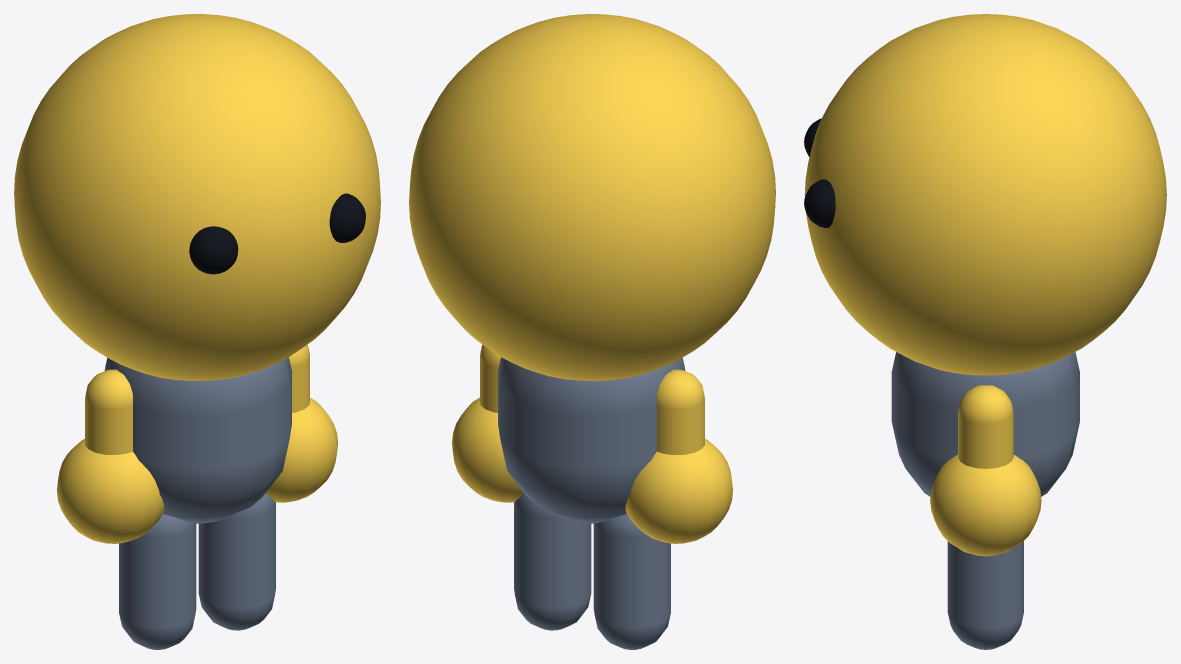
File: player-model-reference.glb
The picture shows the model from 3 angles, left to right: view 1: azimuth 30°, elevation 25°; view 2: azimuth 150°, elevation 25°; view 3: azimuth 270°, elevation 25°; orthographic projection.
Visible parts, largest first — view 1: Head_Skin, Torso, Leg_L_Upper, Leg_R_Upper, Arm_L_Hand, Arm_R_Hand, Arm_L_Upper, Eye_L, Eye_R, Arm_R_Upper; view 2: Head_Skin, Torso, Leg_L_Upper, Leg_R_Upper, Arm_L_Hand, Arm_R_Hand, Arm_L_Upper, Arm_R_Upper; view 3: Head_Skin, Torso, Arm_R_Hand, Leg_R_Upper, Arm_R_Upper, Eye_R.
Boxes of the visible parts, box(x1,y1,x2,y2) form: Head_Skin: box(14, 14, 380, 381); Torso: box(104, 357, 291, 523); Leg_L_Upper: box(119, 514, 196, 649); Leg_R_Upper: box(198, 493, 275, 630); Arm_L_Hand: box(57, 439, 164, 543); Arm_R_Hand: box(266, 397, 337, 502); Arm_L_Upper: box(85, 369, 132, 455); Eye_L: box(189, 226, 238, 274); Eye_R: box(329, 193, 365, 242); Arm_R_Upper: box(289, 344, 309, 412); Head_Skin: box(409, 14, 775, 381); Torso: box(498, 357, 685, 523); Leg_L_Upper: box(593, 514, 670, 649); Leg_R_Upper: box(514, 493, 591, 630); Arm_L_Hand: box(625, 439, 732, 543); Arm_R_Hand: box(452, 397, 523, 502); Arm_L_Upper: box(657, 369, 704, 455); Arm_R_Upper: box(480, 344, 500, 412); Head_Skin: box(804, 14, 1166, 375); Torso: box(891, 352, 1079, 496); Arm_R_Hand: box(930, 455, 1041, 556); Leg_R_Upper: box(947, 541, 1023, 649); Arm_R_Upper: box(958, 385, 1013, 468); Eye_R: box(804, 179, 835, 227).
Bounding box in the file's own units: 0.52 × 0.945 × 0.521.
